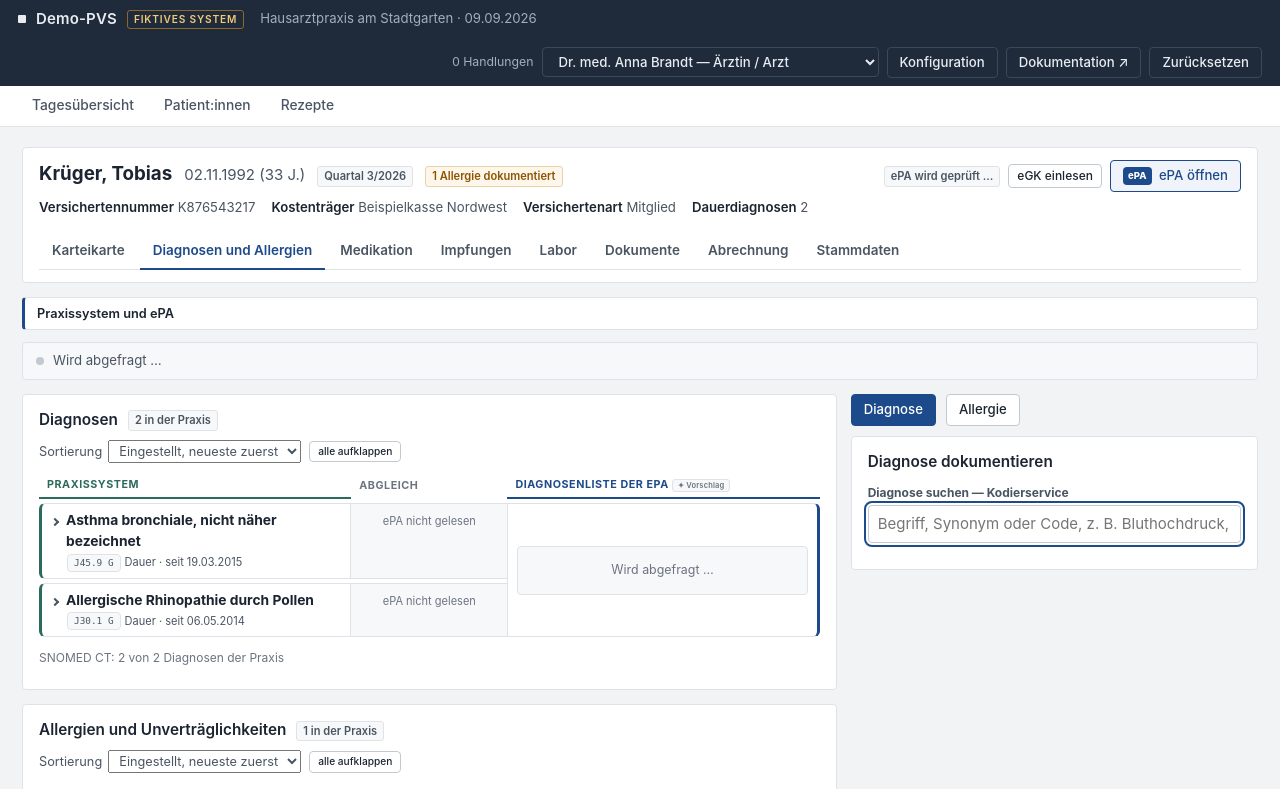
Test case: Allergieerfassung mit der nationalen Werteliste › lässt Freitext zu, sagt aber, was er kostet
Click the button "Allergie" at (983, 410), box [946,394,1020,426]
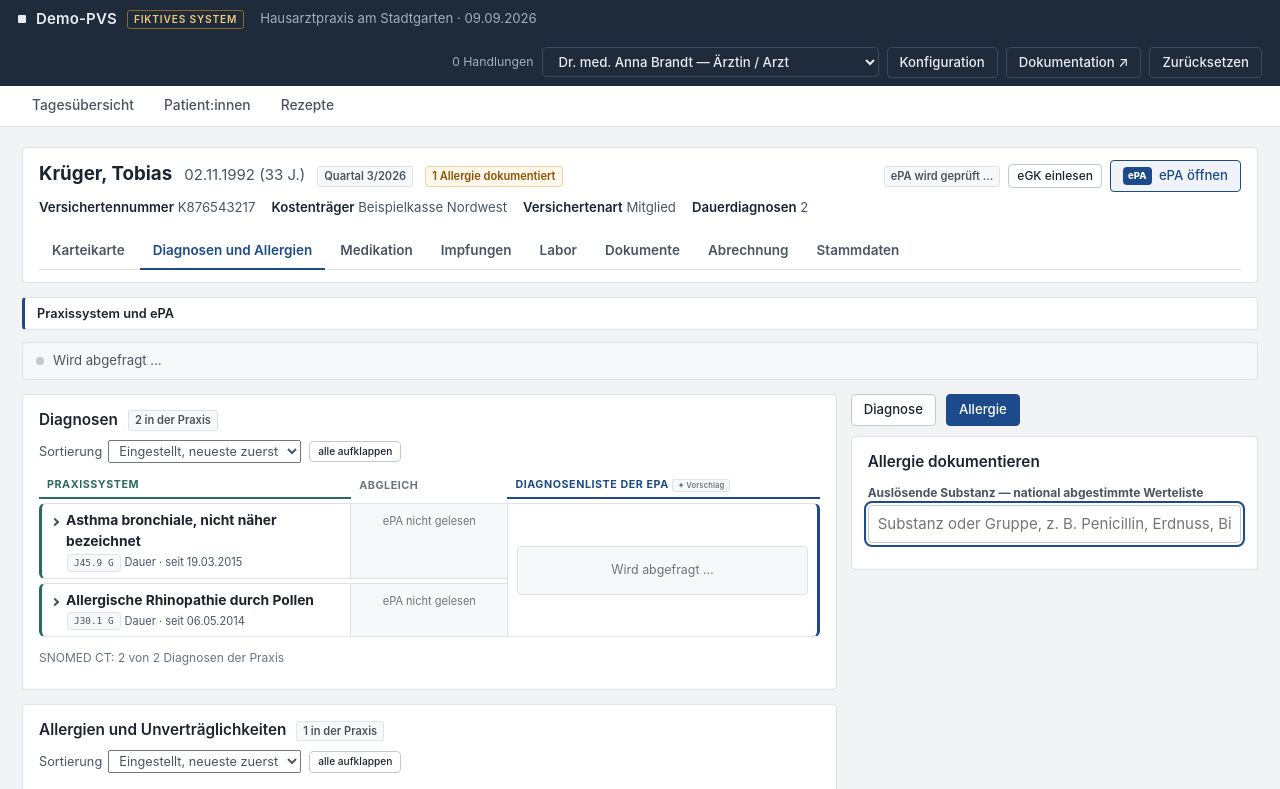
Replace the text in the dropdown labelled "Auslösende Substanz — national abgestimmte Werteliste" with "Pflasterkleber" at (1054, 524), box [868,505,1241,543]
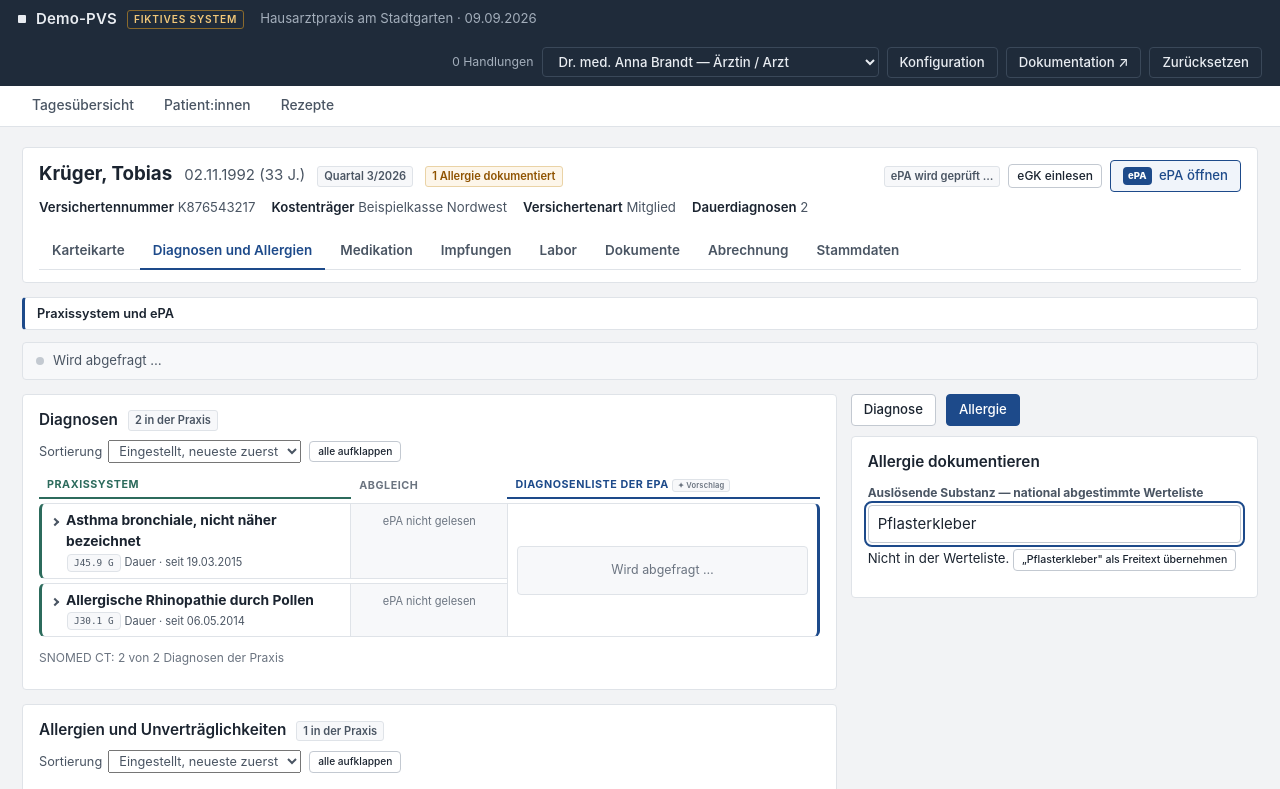
Click the button "„Pflasterkleber\" als Freitext übernehmen" at (1125, 560), box [1013,549,1236,571]
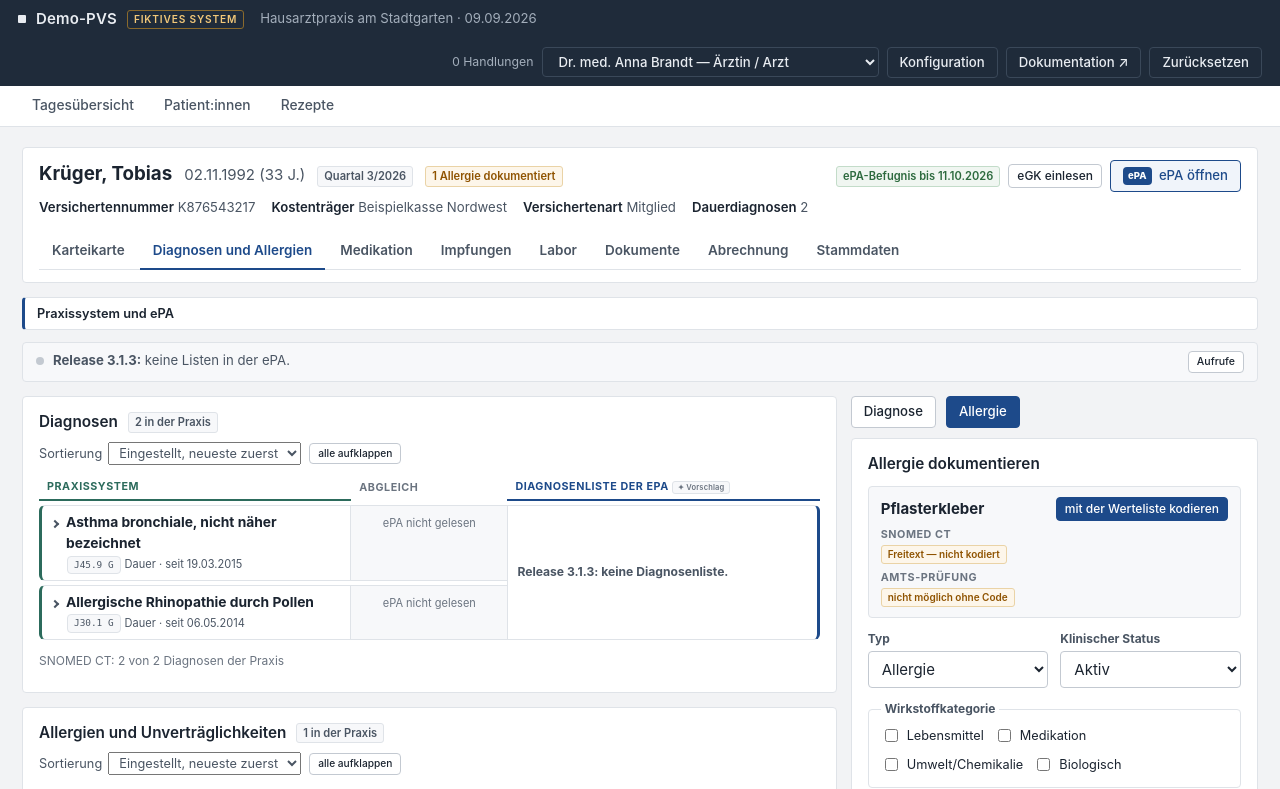
Now the text "Freitext — nicht kodiert" is shown, box [881,545,1007,564]
Now the text "nicht möglich ohne Code" is shown, box [881,588,1015,607]
